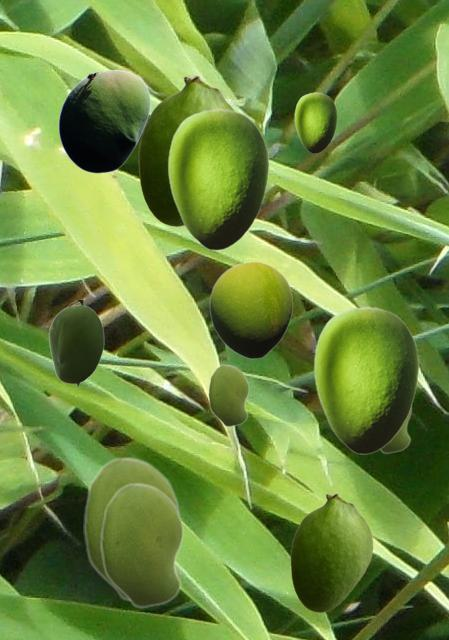green_mango: (313, 306, 418, 453), (138, 74, 235, 225), (167, 108, 268, 249), (83, 456, 179, 601), (100, 482, 183, 608), (290, 492, 372, 611), (58, 69, 150, 172), (209, 261, 292, 358), (48, 300, 103, 387), (294, 92, 336, 152), (208, 364, 248, 426), (380, 410, 411, 453)
